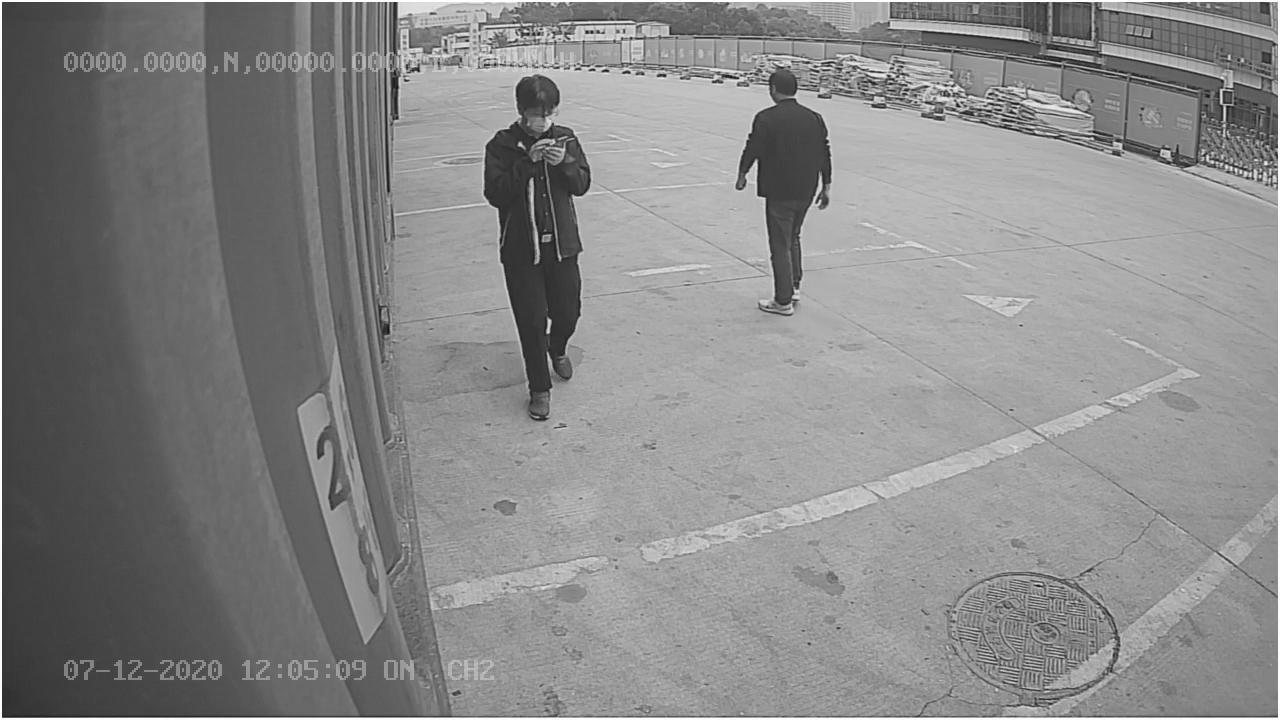person: (480, 73, 602, 423), (733, 62, 833, 321)
